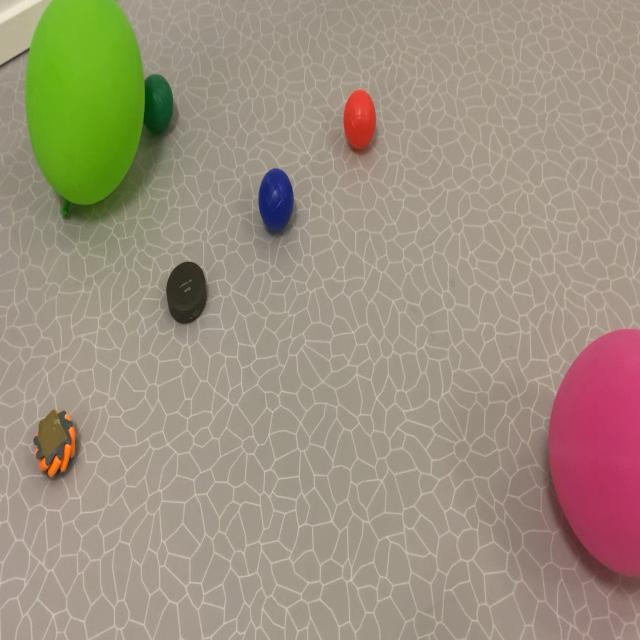7: (319, 49, 391, 190)
green ball: (234, 139, 315, 286)
red ball: (145, 36, 184, 180)
